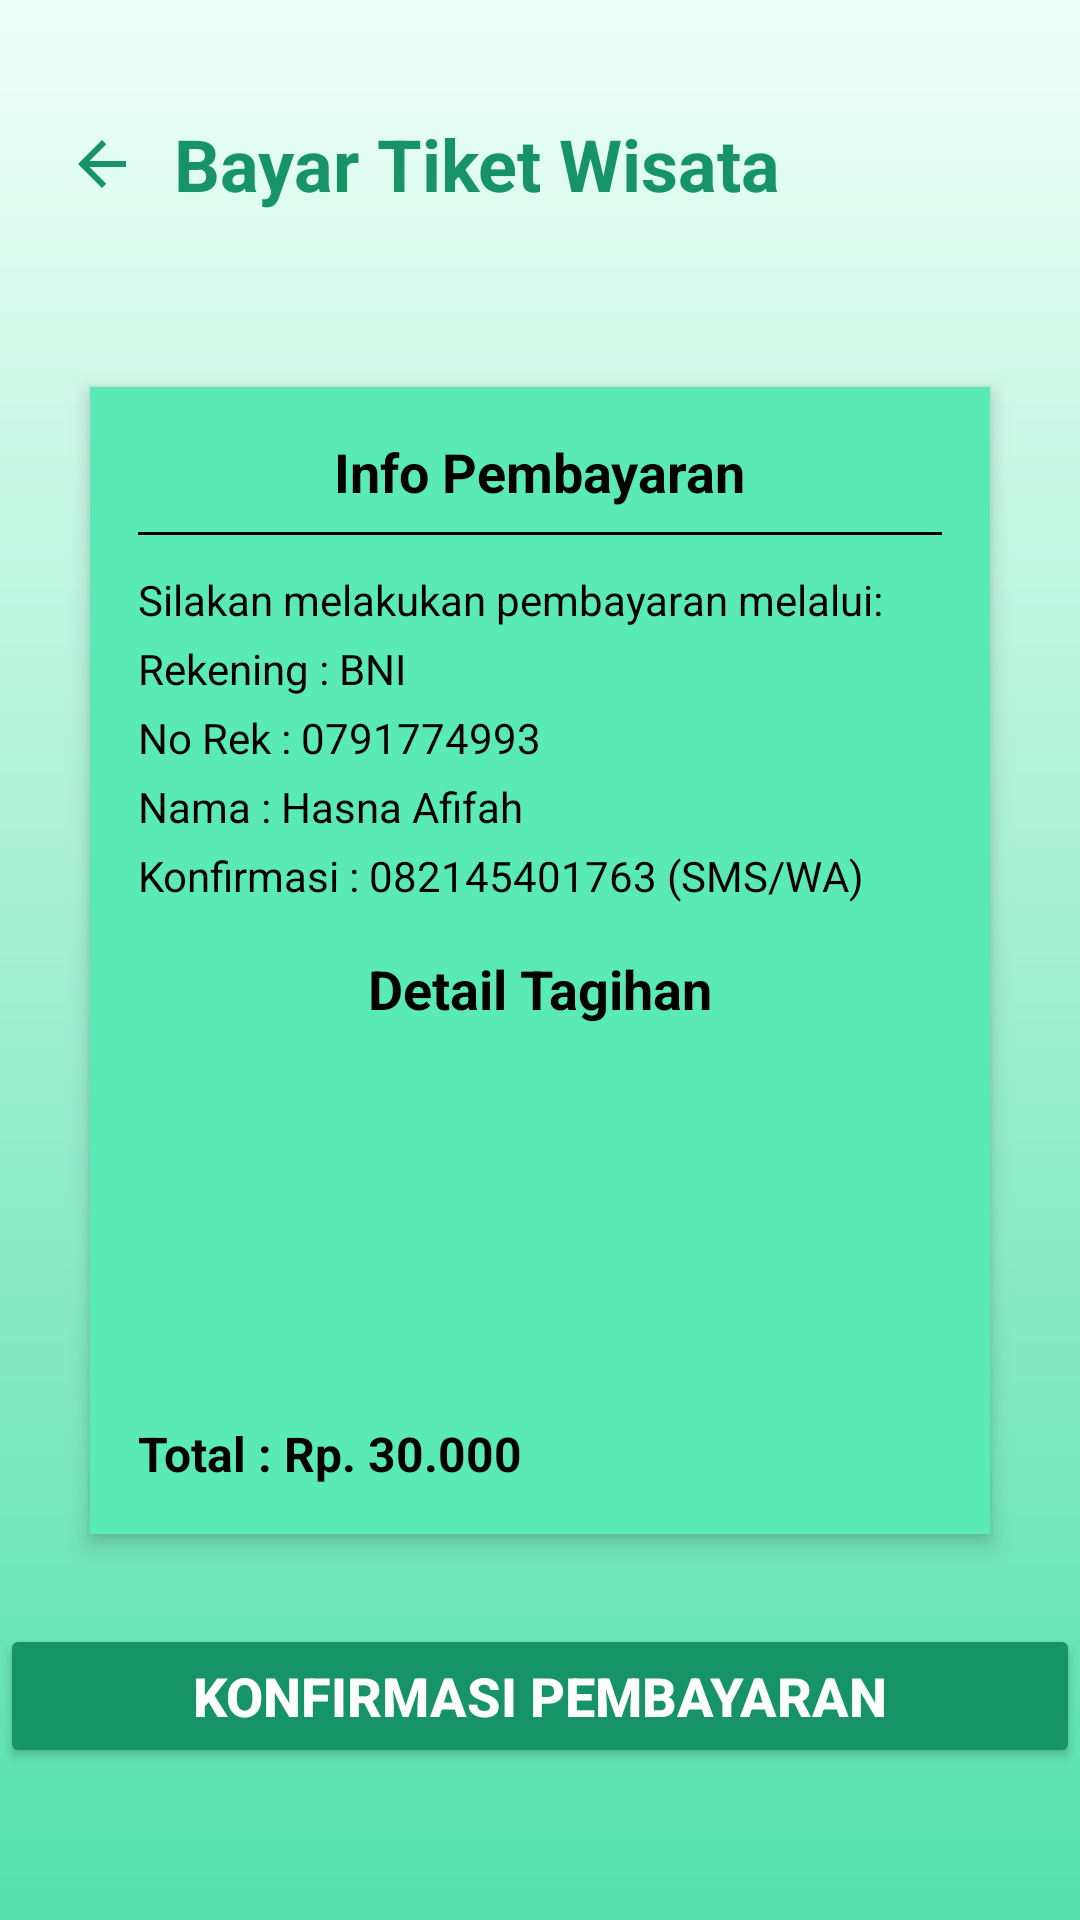

Locate icon controls on the screen. Image size 1080w x 1920h, boxes as (x1,y1,x2,y2).
Kembali: (78,140,126,188)
